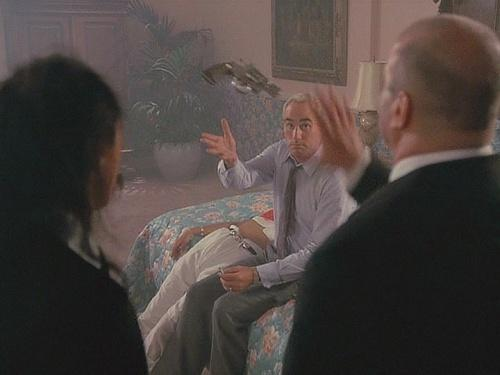Gun: (202, 59, 281, 101)
